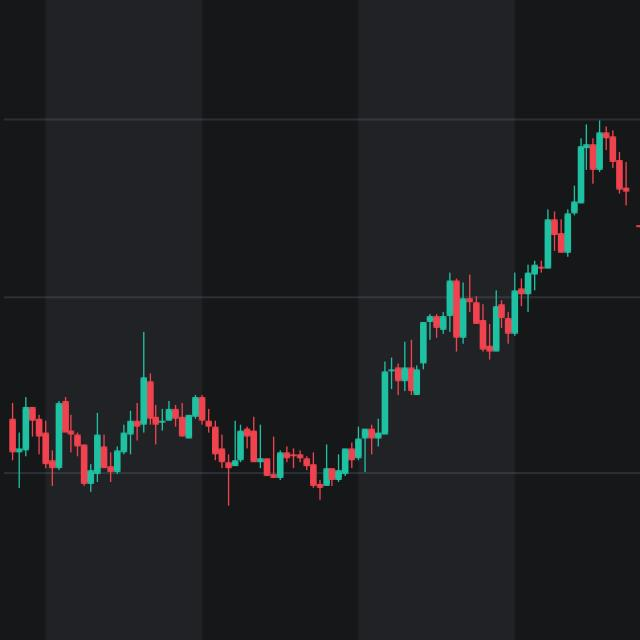Resistance-breakout: (105, 117, 608, 479)
